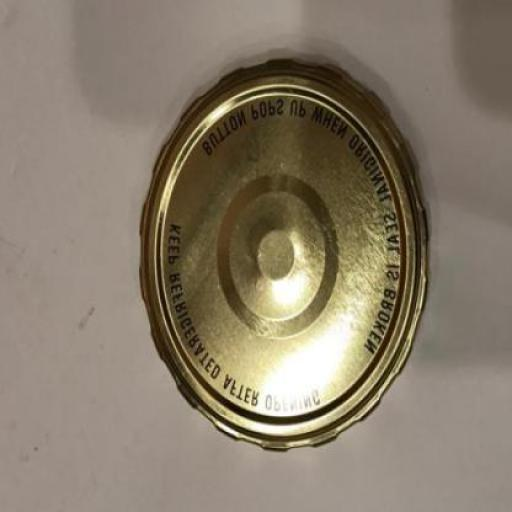metal: (138, 60, 429, 454)
